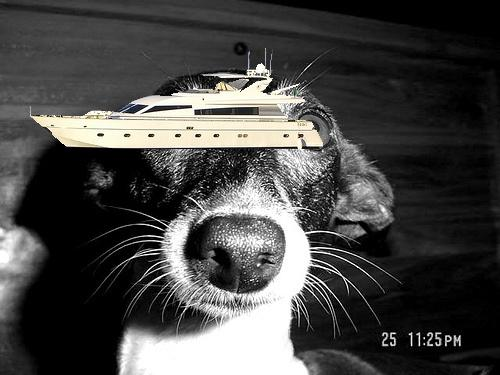tampered: (31, 49, 323, 149)
